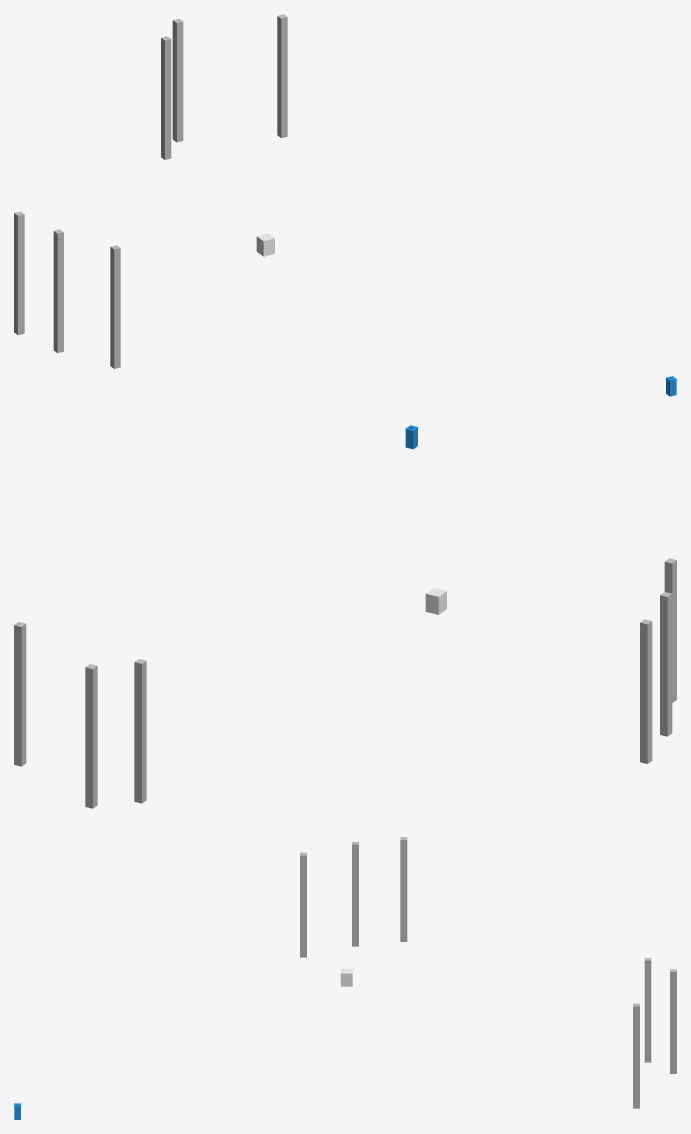
Rendered from bbb.obj.
The picture shows the model from 3 angles, top to bottom: view 1: azimuth 30°, elevation 25°; view 2: azimuth 150°, elevation 25°; view 3: azimuth 270°, elevation 25°; orthographic projection. The views are drawn at different scales.
Visible parts, largest first — view 1: 立方体.1; view 2: 立方体.1; view 3: 立方体.1.
Part boxes in pixels (<box>): 立方体.1: <box>14,14,676,396</box>; 立方体.1: <box>14,425,676,808</box>; 立方体.1: <box>14,837,676,1119</box>.
Bounding box in the file's own units: 759 × 200 × 1177.
